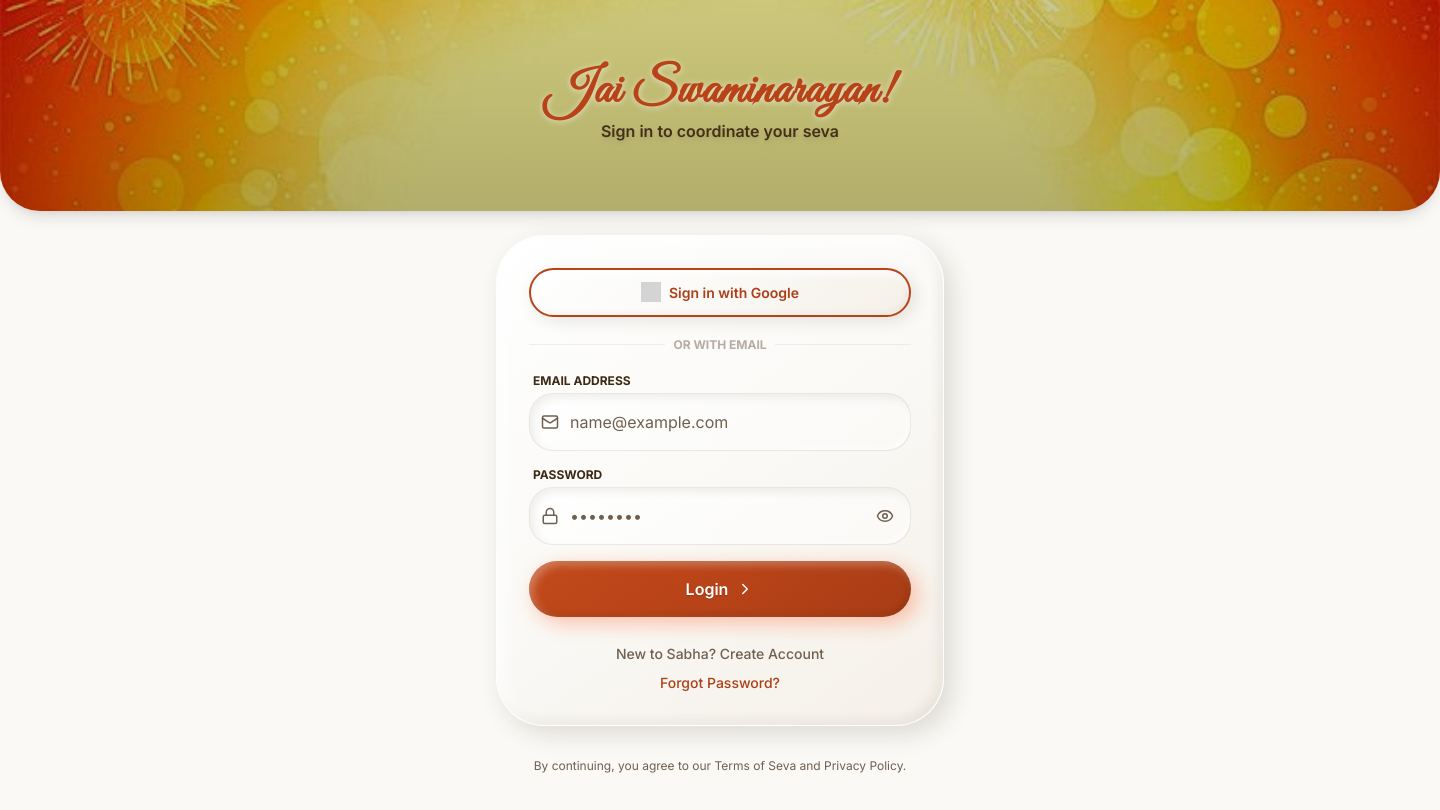
Test: LoginScreen — the confirm-password eye, on the register view › has its own distinct name, so the two eyes are tellable apart
The width and height of the screenshot is (1440, 810).
What coordinates should you click on to do the following:
click the button "New to Sabha? Create Account"
I would click on:
 (720, 654)
Its box is [616,644,824,664].
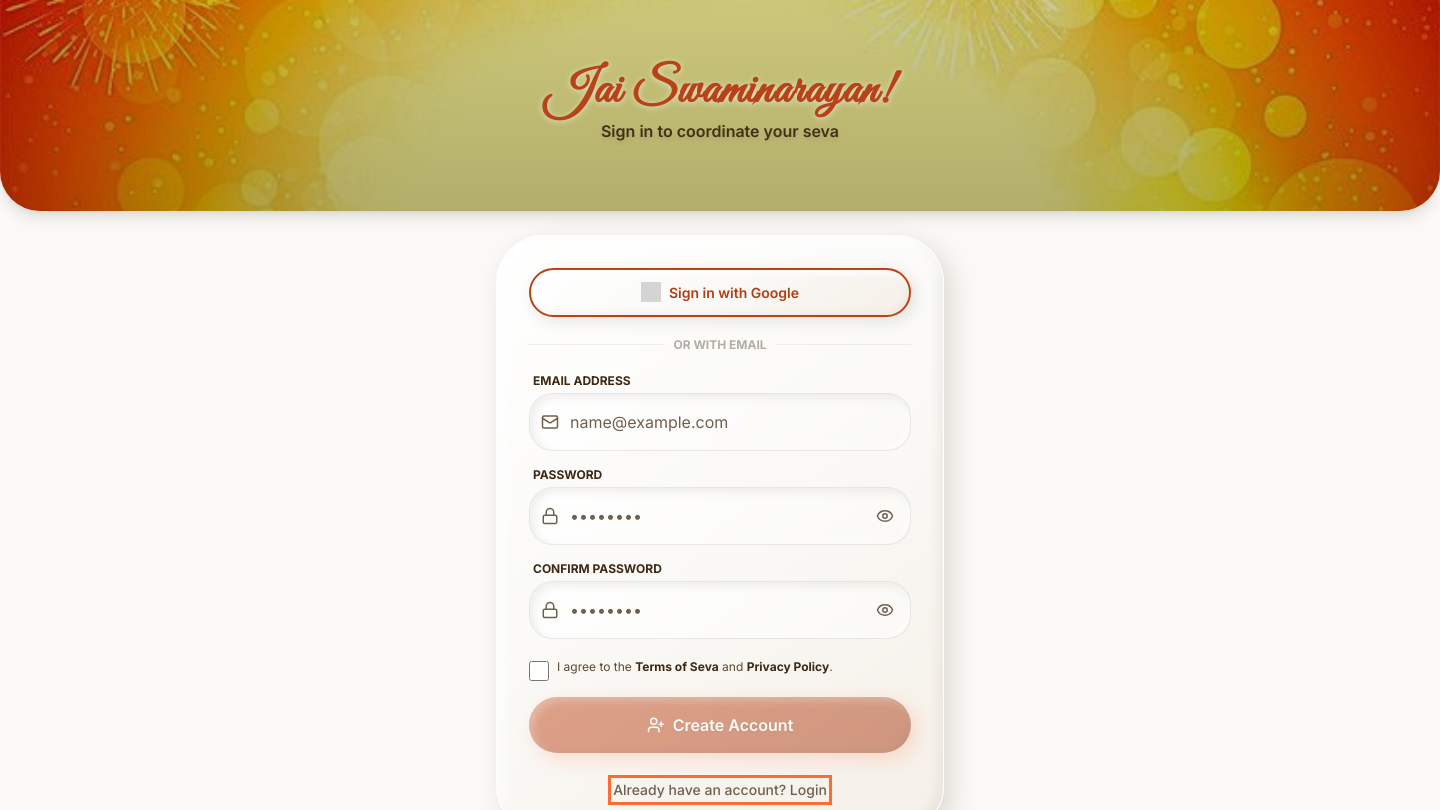
Expected: the button named "show password" is shown, [863,494,907,538]
Now the button named "show confirmed password" is shown, box [863,588,907,632]
